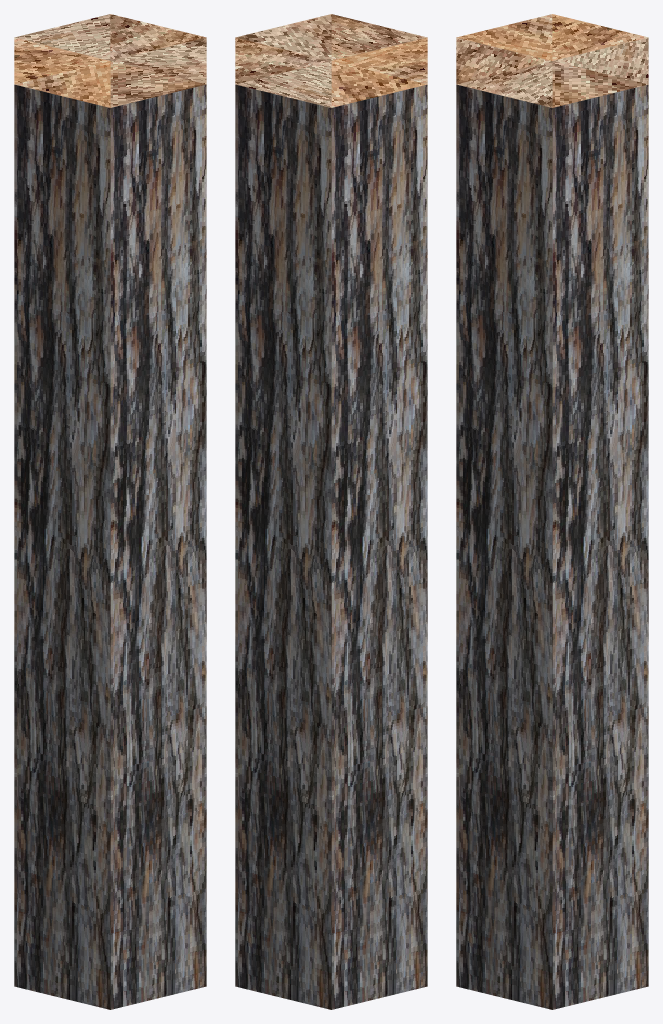
File: log.gltf
The picture shows the model from 3 angles, left to right: view 1: azimuth 30°, elevation 25°; view 2: azimuth 150°, elevation 25°; view 3: azimuth 270°, elevation 25°; orthographic projection.
Visible parts, largest first — view 1: log; view 2: log; view 3: log.
Boxes of the visible parts, x1,y1,x2,y2 form: log: (14,14,206,1009); log: (235,14,427,1009); log: (456,14,648,1009).
Bounding box in the file's own units: 0.433 × 1.94 × 0.375.
Materials: 1 (1 with a texture image).
